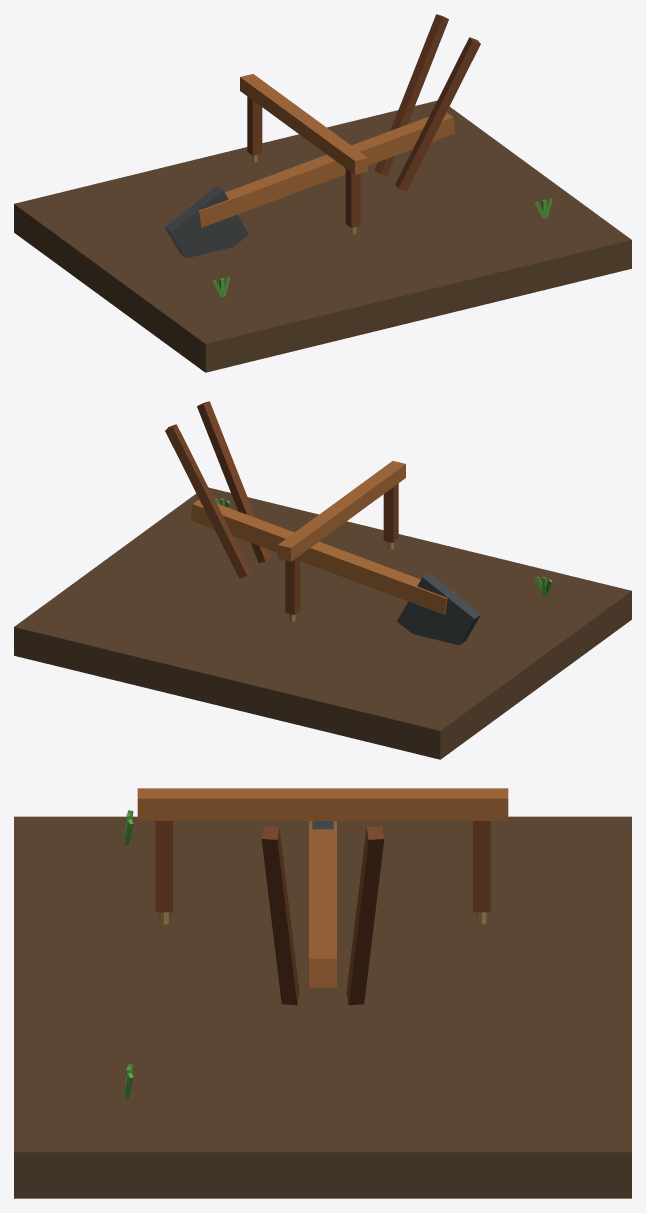
Rendered from rice_field_plow.glb.
3 renders of one model, top to bottom at view 1: azimuth 30°, elevation 25°; view 2: azimuth 150°, elevation 25°; view 3: azimuth 270°, elevation 25°, orthographic. The views are drawn at different scales.
Visible parts, largest first — view 1: TerrainBase, PlowBeam, PlowYoke, PlowBlade, PlowHandle, PlowHandle.001, YokePeg, YokePeg.001; view 2: TerrainBase, PlowBeam, PlowYoke, PlowBlade, PlowHandle.001, PlowHandle, YokePeg.001, YokePeg; view 3: TerrainBase, PlowYoke, PlowBeam, PlowHandle, PlowHandle.001, YokePeg, YokePeg.001.
Boxes of the visible parts, x1,y1,x2,y2 form: TerrainBase: (14,100,631,372); PlowBeam: (190,112,455,227); PlowYoke: (240,74,367,174); PlowBlade: (165,186,248,258); PlowHandle: (395,37,480,191); PlowHandle.001: (374,14,448,175); YokePeg: (345,168,360,227); YokePeg.001: (247,96,262,155); TerrainBase: (14,487,631,759); PlowBeam: (190,499,455,614); PlowYoke: (278,461,405,561); PlowBlade: (397,573,480,645); PlowHandle.001: (165,424,250,578); PlowHandle: (197,401,271,562); YokePeg.001: (285,555,300,614); YokePeg: (383,483,398,542); TerrainBase: (14,816,631,1198); PlowYoke: (137,788,508,820); PlowBeam: (309,821,336,987); PlowHandle: (261,826,299,1005); PlowHandle.001: (346,826,384,1005); YokePeg: (155,821,172,912); YokePeg.001: (473,821,490,912).
Size of the model in its own units: 9 by 3.85 by 7.
